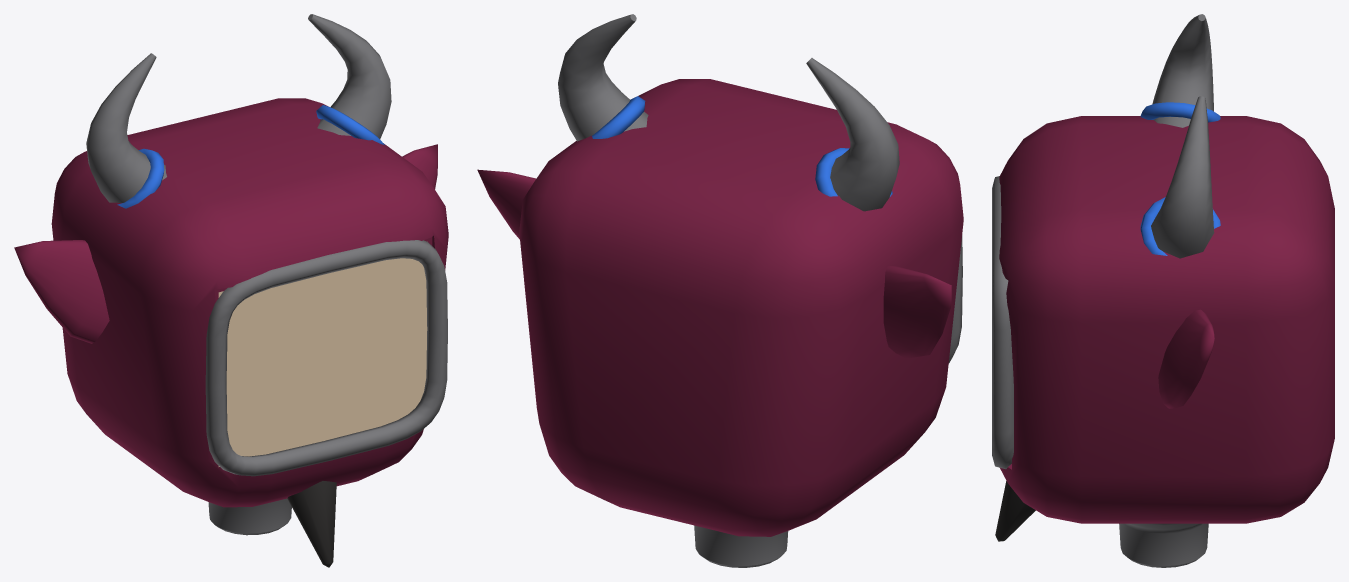
File: Kit_Head_Devil.glb
The picture shows the model from 3 angles, left to right: view 1: azimuth 30°, elevation 25°; view 2: azimuth 150°, elevation 25°; view 3: azimuth 270°, elevation 25°; orthographic projection. The views are drawn at different scales.
Visible parts, largest first — view 1: Kit_Head_Devil, FacePlate; view 2: Kit_Head_Devil; view 3: Kit_Head_Devil.
Part boxes in pixels (bbox=[...]): Kit_Head_Devil: bbox=[14, 14, 448, 567]; FacePlate: bbox=[218, 258, 427, 466]; Kit_Head_Devil: bbox=[477, 14, 963, 567]; Kit_Head_Devil: bbox=[992, 14, 1334, 567].
Size of the model in its own units: 0.4059 by 0.4322 by 0.2707.
